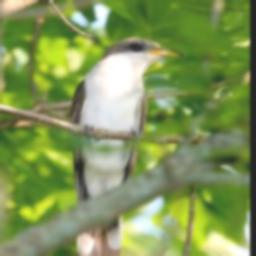Cuckoo: (66, 34, 187, 256)
